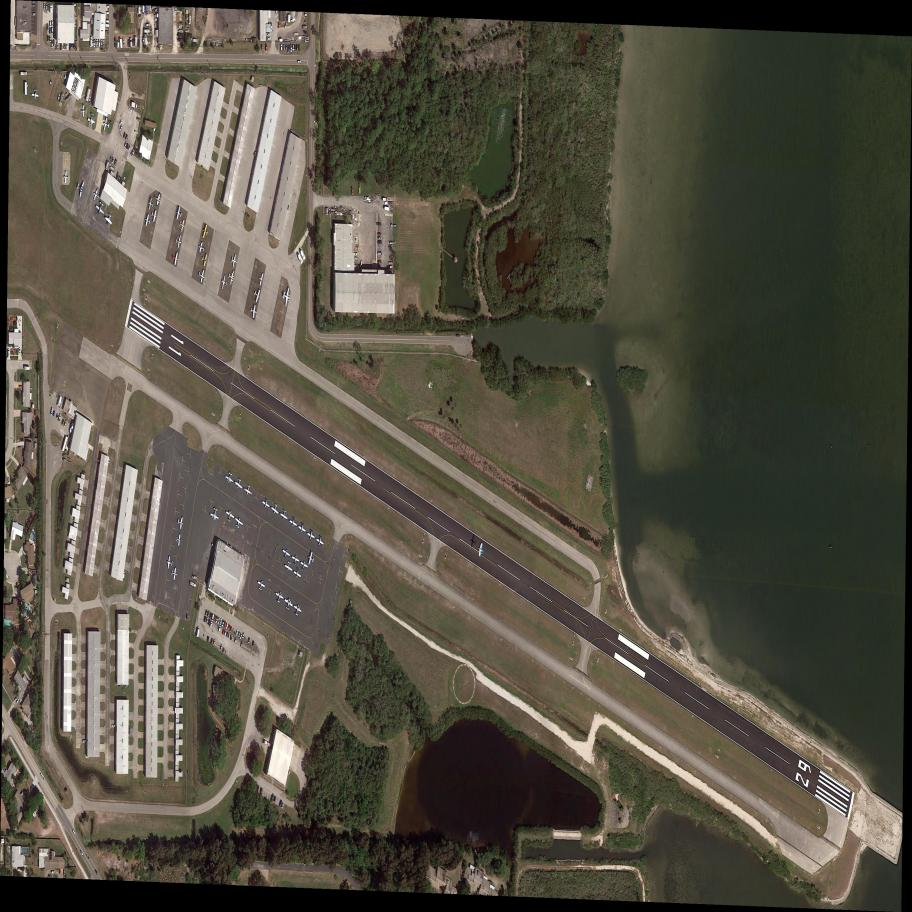large-vehicle: (261, 737, 275, 749), (297, 247, 307, 261), (295, 251, 304, 266), (49, 407, 55, 417), (189, 581, 197, 588), (105, 161, 110, 171), (196, 627, 200, 638), (7, 349, 10, 359), (104, 23, 109, 27)
plane: (279, 595, 298, 613), (74, 177, 87, 199), (93, 199, 108, 218), (231, 515, 248, 531), (278, 547, 295, 562), (240, 483, 256, 498), (282, 285, 292, 308), (268, 502, 283, 517), (226, 267, 237, 287), (251, 286, 263, 304), (209, 506, 221, 524), (273, 589, 286, 605), (291, 602, 303, 618), (224, 508, 236, 524), (259, 497, 273, 510), (170, 249, 180, 267), (224, 471, 236, 486), (104, 212, 115, 228), (292, 565, 303, 581), (230, 252, 239, 271), (220, 273, 229, 292), (201, 223, 211, 240), (174, 205, 184, 222), (306, 550, 316, 567), (296, 521, 308, 535), (233, 477, 245, 491), (256, 578, 267, 593), (283, 559, 294, 574), (197, 267, 206, 285), (87, 111, 97, 127), (63, 90, 74, 104), (288, 515, 299, 529), (279, 508, 290, 522), (178, 217, 187, 234), (299, 558, 309, 573), (169, 566, 179, 581), (477, 542, 486, 558), (197, 240, 206, 256), (150, 208, 159, 224), (102, 117, 111, 133), (256, 271, 265, 287), (315, 534, 325, 548), (175, 233, 183, 250), (92, 188, 101, 203), (291, 554, 301, 567), (306, 528, 316, 541), (201, 252, 209, 268), (144, 213, 152, 229), (250, 303, 258, 319), (177, 515, 185, 531), (147, 197, 155, 212), (154, 192, 162, 207), (166, 555, 174, 570), (175, 533, 183, 547), (31, 88, 40, 100), (81, 104, 87, 118), (64, 171, 69, 183)
ship: (69, 422, 75, 434), (39, 772, 46, 781), (211, 613, 215, 622), (157, 46, 163, 51), (290, 129, 296, 134), (205, 609, 208, 617), (207, 610, 210, 618), (209, 612, 212, 620), (179, 29, 184, 33), (25, 867, 27, 873)
small-vehicle: (244, 211, 251, 219), (270, 793, 275, 803), (191, 574, 198, 581), (93, 868, 99, 876), (85, 853, 91, 861), (79, 849, 85, 857), (130, 149, 136, 157), (57, 413, 62, 422), (115, 172, 120, 181), (135, 116, 142, 122), (72, 829, 77, 837), (229, 633, 234, 641), (63, 419, 67, 428), (61, 418, 65, 427), (133, 129, 139, 135), (57, 93, 61, 102), (128, 107, 134, 113), (240, 640, 244, 649), (241, 632, 245, 641), (259, 787, 263, 796), (227, 631, 231, 640), (221, 619, 225, 628), (124, 134, 129, 141), (111, 156, 115, 164), (119, 124, 123, 132), (88, 96, 92, 104), (247, 637, 251, 645), (359, 260, 363, 268), (279, 800, 283, 808), (273, 795, 277, 803), (206, 635, 210, 643), (119, 176, 123, 184), (114, 158, 118, 166), (221, 627, 225, 635), (229, 625, 233, 633), (209, 621, 213, 629), (134, 37, 137, 47), (376, 222, 382, 227), (15, 699, 20, 705), (52, 410, 56, 417), (55, 413, 59, 420), (284, 22, 288, 29), (235, 630, 239, 637), (239, 633, 243, 640), (281, 802, 285, 809), (237, 631, 241, 638), (222, 647, 226, 654), (220, 644, 224, 651), (205, 617, 209, 624), (210, 638, 214, 645), (224, 629, 228, 636), (227, 624, 231, 631), (219, 619, 223, 626), (217, 617, 221, 624), (207, 619, 211, 626), (287, 44, 290, 53), (270, 23, 273, 32), (351, 187, 354, 196), (266, 32, 271, 37), (377, 239, 382, 244), (18, 347, 21, 355), (174, 6, 177, 14), (119, 120, 123, 126), (98, 40, 101, 48), (278, 21, 281, 29), (265, 44, 268, 52), (256, 785, 259, 793), (14, 696, 18, 702), (126, 142, 129, 150), (203, 615, 206, 623), (81, 470, 87, 474), (234, 636, 237, 644), (218, 625, 221, 633), (225, 623, 229, 629), (215, 616, 218, 624), (132, 39, 135, 46), (127, 40, 130, 47), (280, 44, 283, 51), (252, 640, 255, 647), (63, 869, 66, 876), (118, 175, 121, 182), (128, 144, 131, 151), (124, 141, 127, 148), (7, 477, 10, 484), (213, 639, 216, 646), (226, 630, 229, 637), (224, 621, 227, 628), (213, 615, 216, 622), (31, 12, 36, 16), (105, 11, 110, 15), (266, 37, 271, 41), (456, 334, 461, 338), (354, 256, 358, 261), (45, 4, 48, 10), (50, 5, 52, 14), (51, 40, 53, 49), (130, 38, 132, 47), (71, 42, 74, 48), (122, 38, 125, 44), (96, 39, 98, 48), (94, 39, 96, 48), (123, 132, 126, 138), (105, 30, 109, 34), (105, 19, 109, 23), (101, 40, 103, 48), (66, 43, 68, 51), (290, 44, 292, 52), (146, 23, 150, 27), (303, 25, 307, 29), (354, 252, 358, 256), (389, 265, 393, 269), (389, 261, 393, 265), (377, 236, 381, 240), (186, 613, 188, 621), (112, 724, 116, 728), (51, 870, 55, 874), (129, 726, 131, 734), (82, 739, 86, 743), (18, 446, 22, 450), (178, 22, 183, 25), (377, 252, 382, 255), (177, 6, 179, 13), (47, 35, 49, 42), (49, 27, 51, 34), (51, 27, 53, 34), (47, 24, 49, 31), (48, 4, 50, 11), (53, 40, 55, 47), (57, 43, 59, 50), (64, 43, 66, 50), (91, 18, 93, 25), (92, 40, 94, 47), (60, 43, 62, 50), (138, 40, 140, 47), (139, 29, 141, 36), (285, 44, 287, 51), (283, 44, 285, 51), (261, 44, 263, 51), (142, 37, 144, 44), (294, 44, 296, 51), (292, 44, 294, 51), (296, 44, 298, 51), (298, 44, 300, 51), (49, 36, 51, 42), (51, 21, 53, 27), (49, 21, 51, 27), (32, 4, 35, 8), (54, 5, 56, 11), (43, 4, 45, 10), (18, 385, 22, 388), (144, 12, 148, 15), (138, 14, 141, 18), (378, 260, 382, 263), (378, 232, 381, 236), (297, 60, 301, 63), (59, 868, 61, 874)
